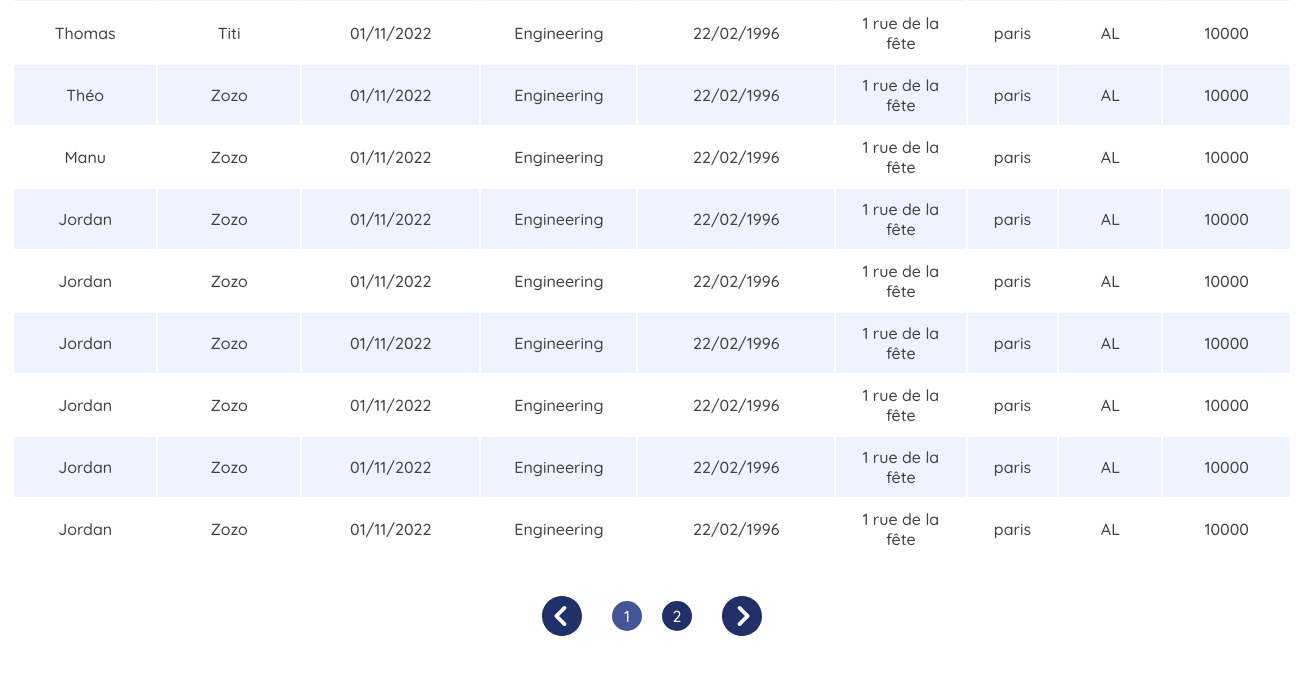
Scenario: click on btn page to get second page
(page scrolled)
Click the text with test id "pageBtn" showing "2": (677, 616) top-left (662, 601), bottom-right (692, 631)
(page scrolled)
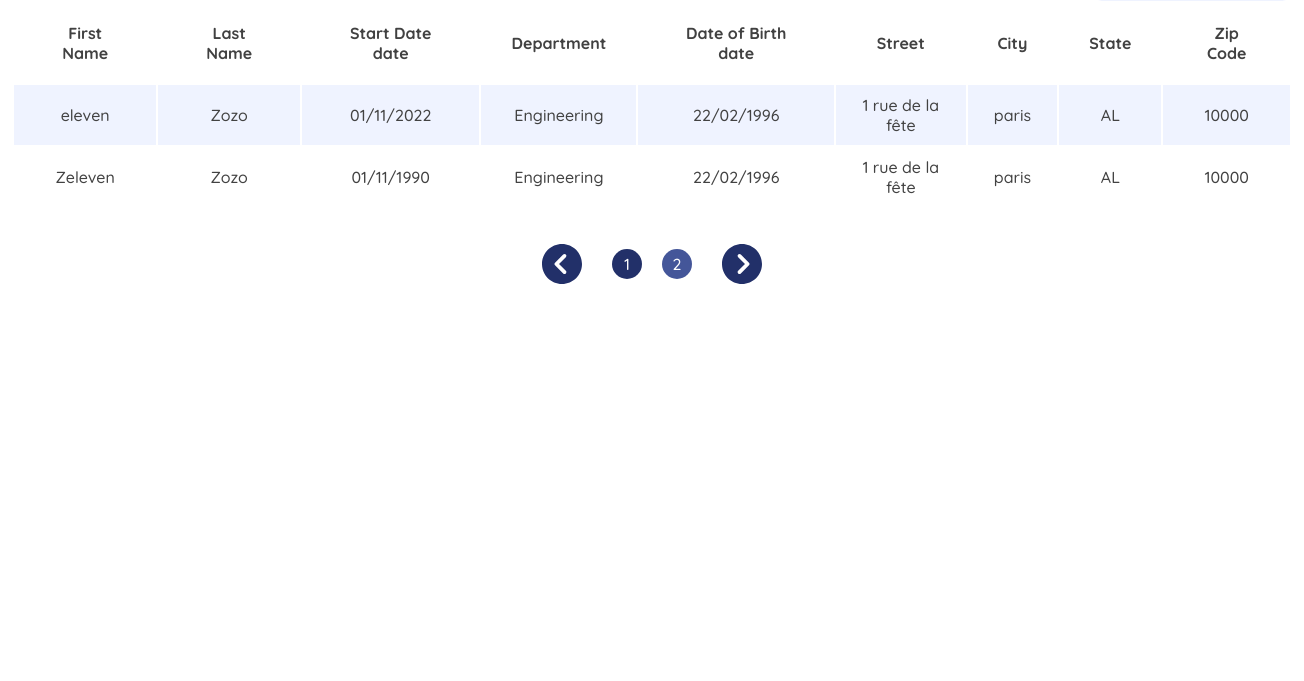
Check: the element with test id "table" shows "eleven", box top-left (61, 105), bottom-right (110, 125)
